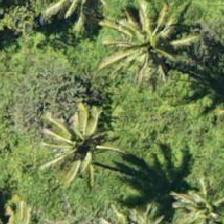coconut_tree: (36, 92, 126, 182), (96, 0, 186, 88), (167, 172, 223, 223)
